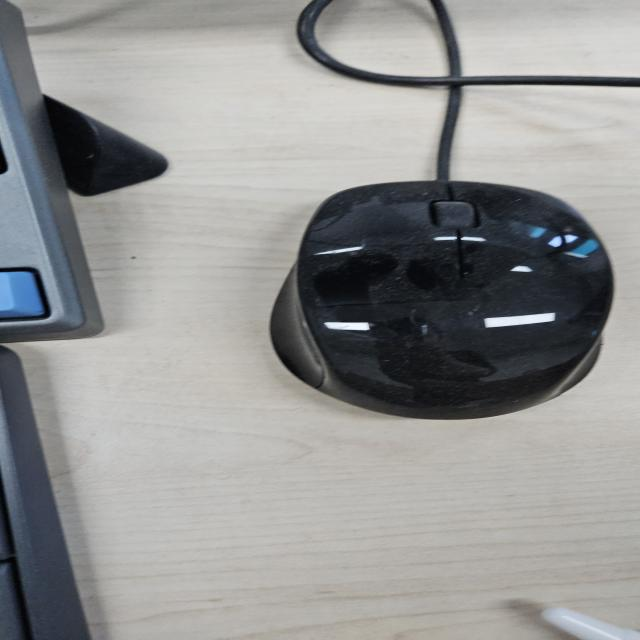Mouse: (266, 178, 616, 421)
